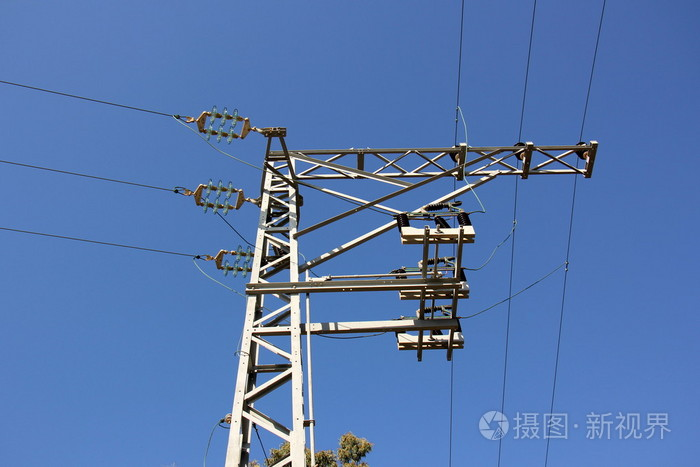insulator: (206, 104, 240, 127), (205, 123, 239, 146), (200, 197, 234, 217), (201, 179, 234, 199), (221, 260, 253, 279), (229, 245, 253, 263)
